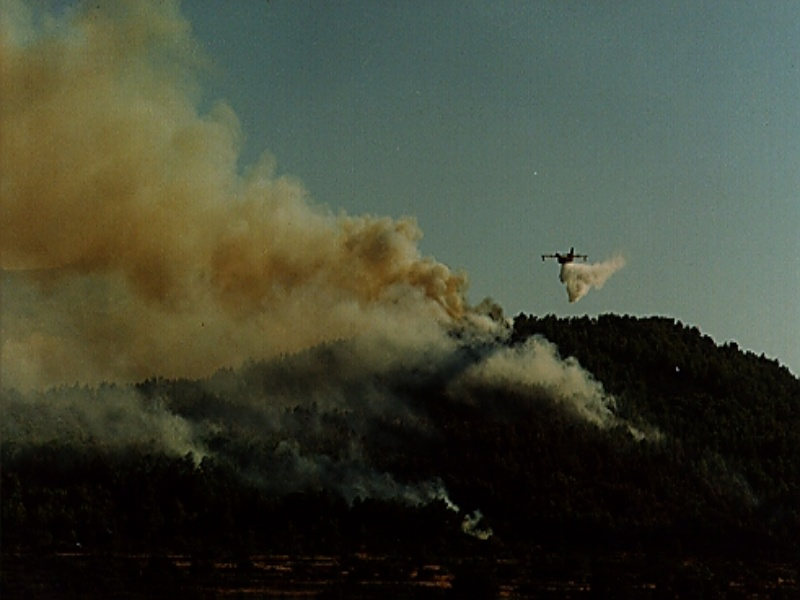smoke: (2, 5, 353, 483)
